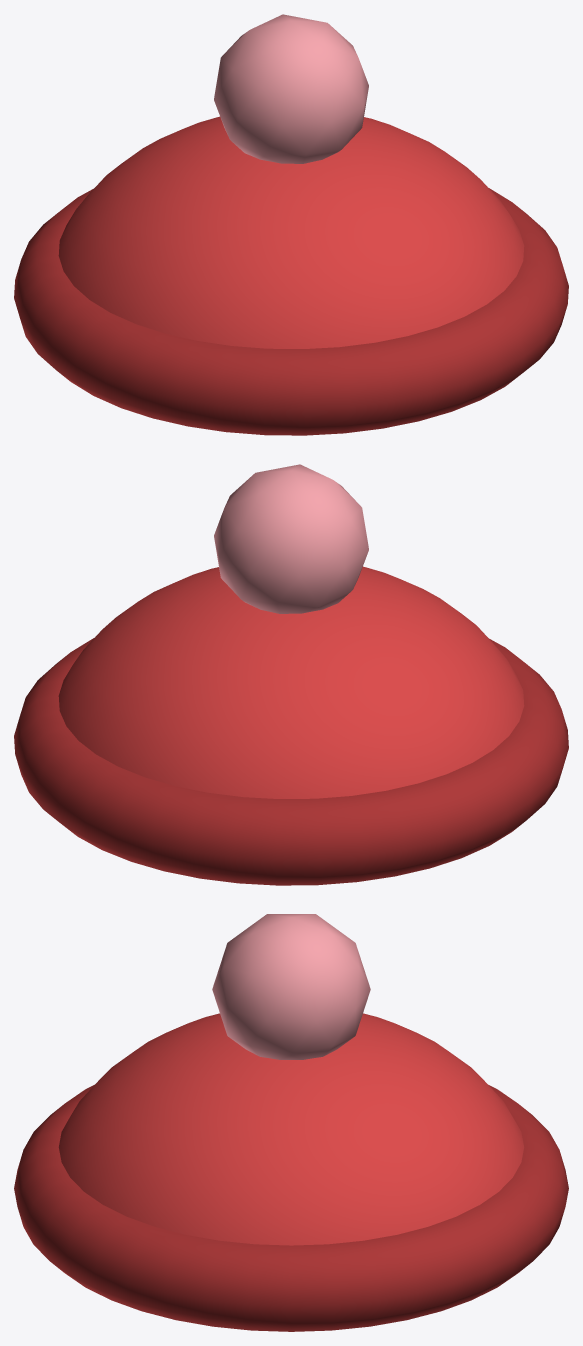
File: head_acc_hat-d.glb
The picture shows the model from 3 angles, top to bottom: view 1: azimuth 30°, elevation 25°; view 2: azimuth 150°, elevation 25°; view 3: azimuth 270°, elevation 25°; orthographic projection.
Visible parts, largest first — view 1: beanie_dome, beanie_fold, beanie_pompom; view 2: beanie_dome, beanie_fold, beanie_pompom; view 3: beanie_dome, beanie_fold, beanie_pompom.
Part boxes in pixels (left/top/right/bottom): beanie_dome: left=58, top=116, right=524, bottom=348; beanie_fold: left=14, top=188, right=568, bottom=435; beanie_pompom: left=214, top=14, right=368, bottom=163; beanie_dome: left=58, top=566, right=524, bottom=798; beanie_fold: left=14, top=638, right=568, bottom=885; beanie_pompom: left=214, top=464, right=368, bottom=613; beanie_dome: left=58, top=1013, right=524, bottom=1245; beanie_fold: left=14, top=1085, right=568, bottom=1331; beanie_pompom: left=212, top=914, right=370, bottom=1059.
Size of the model in its own units: 0.182 by 0.113 by 0.182.
